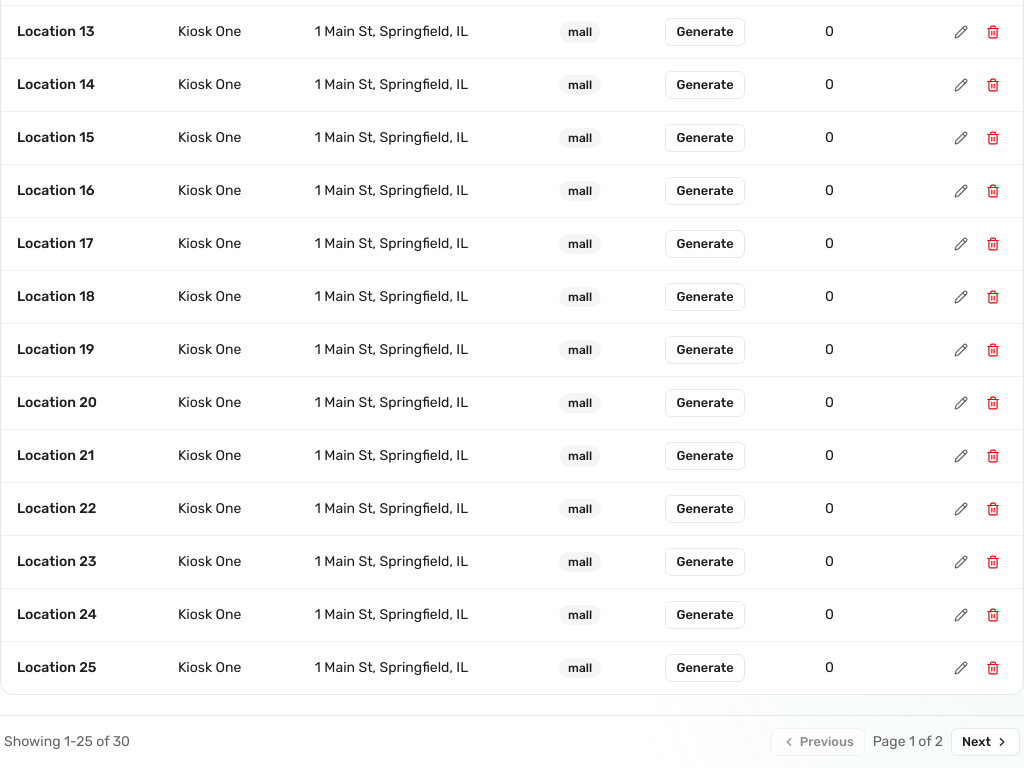
Test: AdminLocationsPage › paginates at 25 rows per page and navigates to the next page
(page scrolled)
Expected: the link "Location 25" is shown, [17,659,96,676]
Expected: the text "Location 26" is not shown
Click the button "Next". click: (986, 742)
box: [951,728,1020,756]
(page scrolled)
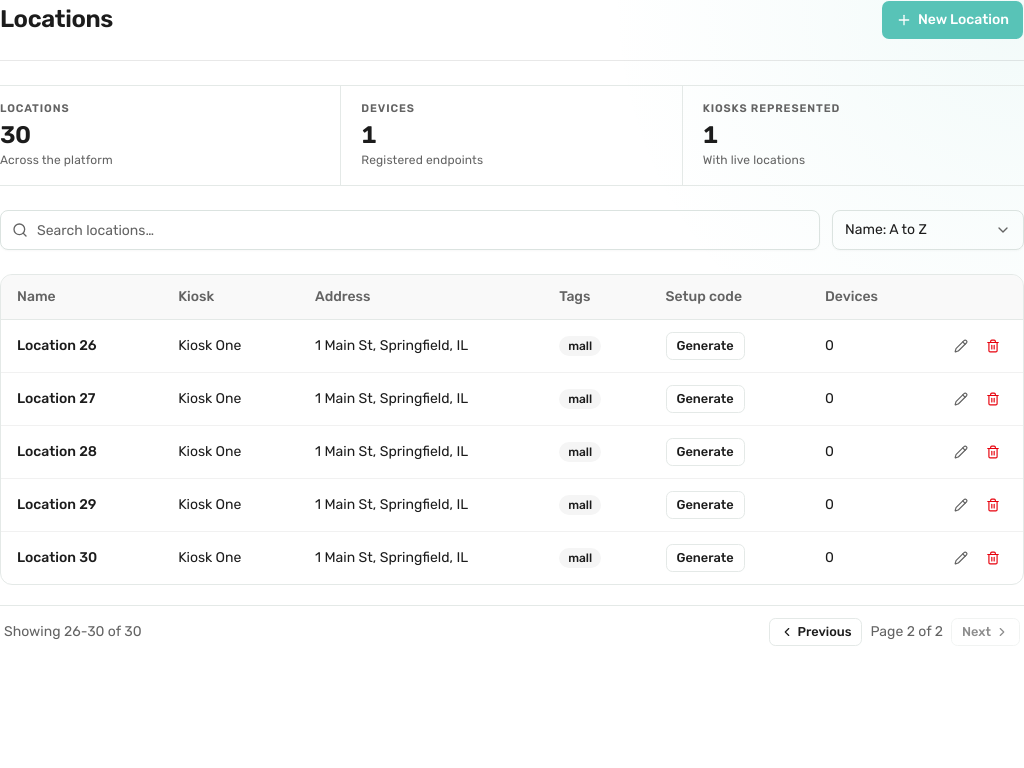
Expected: the link "Location 26" is shown, [17,337,97,354]
Expected: the link "Location 30" is shown, [17,549,97,566]
Expected: the text "Showing 26-30 of 30" is shown, [4,622,142,642]
